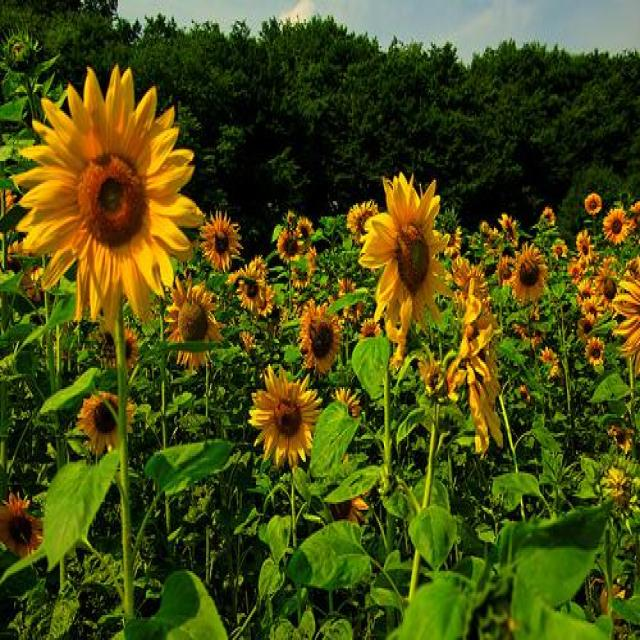sunflower: (11, 60, 203, 329), (361, 172, 451, 340), (462, 270, 506, 450), (250, 366, 322, 464), (164, 278, 218, 372), (604, 262, 640, 382), (75, 389, 137, 454), (301, 297, 342, 370), (0, 492, 45, 554), (508, 241, 548, 303), (201, 213, 242, 272), (234, 260, 271, 313), (423, 354, 468, 394), (346, 200, 376, 239), (600, 204, 630, 242), (340, 277, 364, 321), (278, 228, 300, 262), (576, 231, 594, 262), (499, 215, 519, 242), (292, 259, 310, 288), (584, 295, 602, 320), (586, 336, 602, 364), (576, 314, 596, 335), (298, 218, 314, 244), (570, 258, 584, 286), (585, 193, 601, 216), (551, 237, 567, 260), (542, 207, 556, 228)
